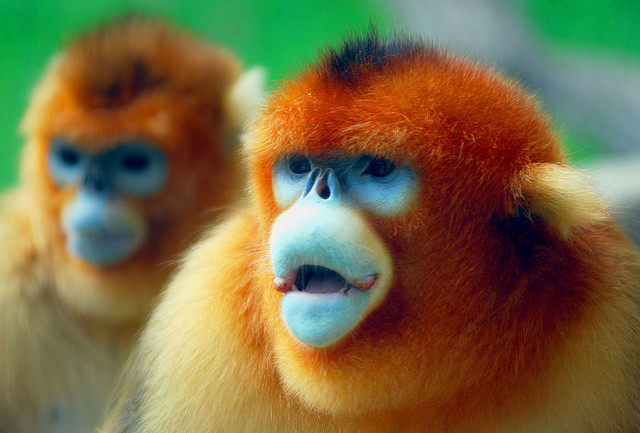GoldenSnub-Nosed: (215, 73, 602, 433), (1, 27, 246, 313)
